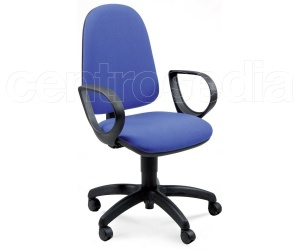chair: (78, 3, 224, 245)
